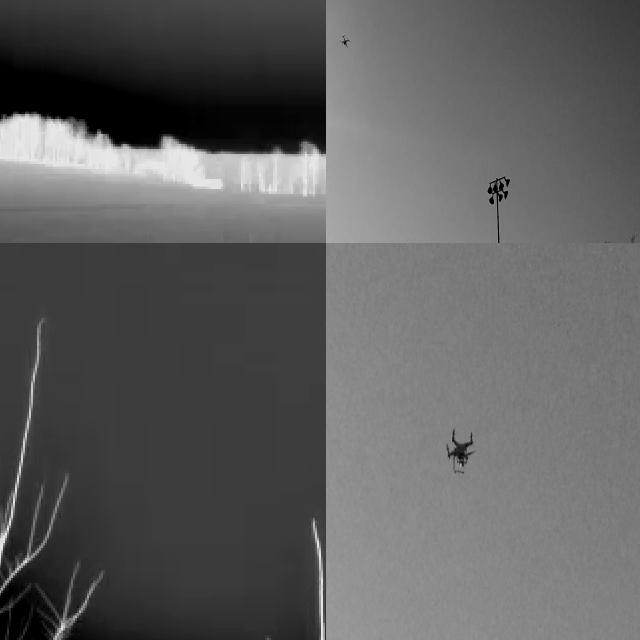drone: (444, 425, 480, 480), (337, 25, 352, 51)
